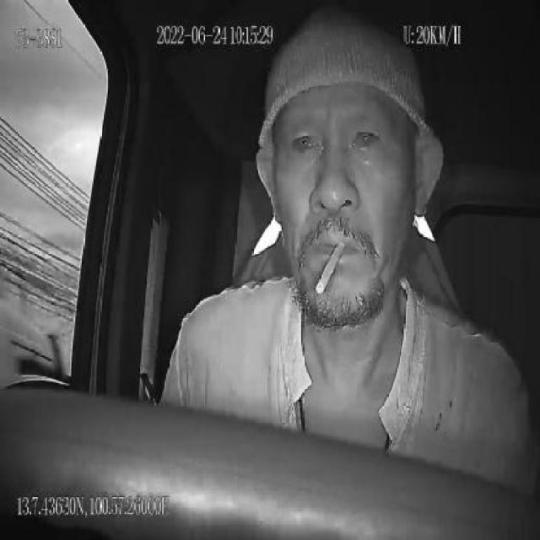smoking: (314, 239, 346, 301)
